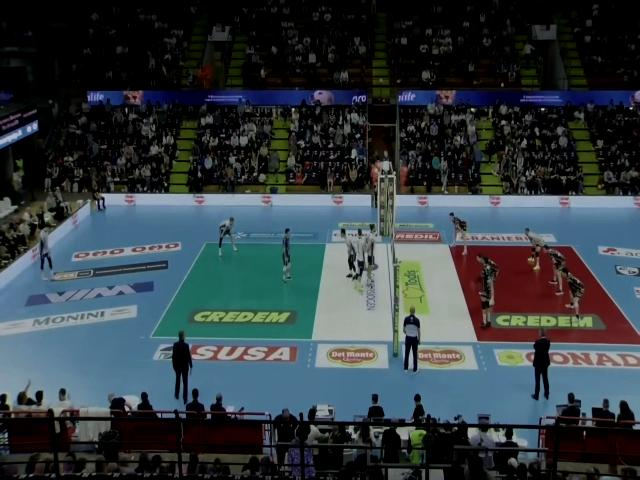volleyball court: (147, 243, 639, 341)
